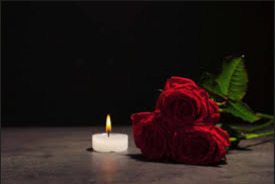RedRose: (153, 80, 214, 124), (172, 123, 229, 165), (130, 111, 175, 160)
